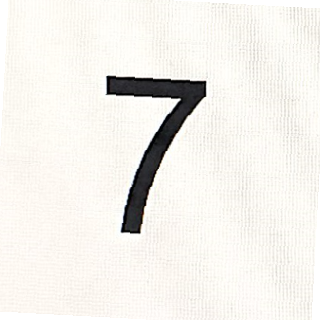seven: (97, 68, 207, 239)
